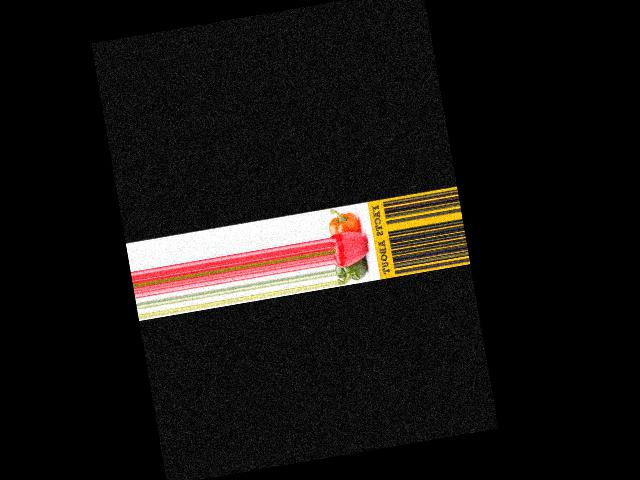bell_pepper: (335, 260, 374, 285)
